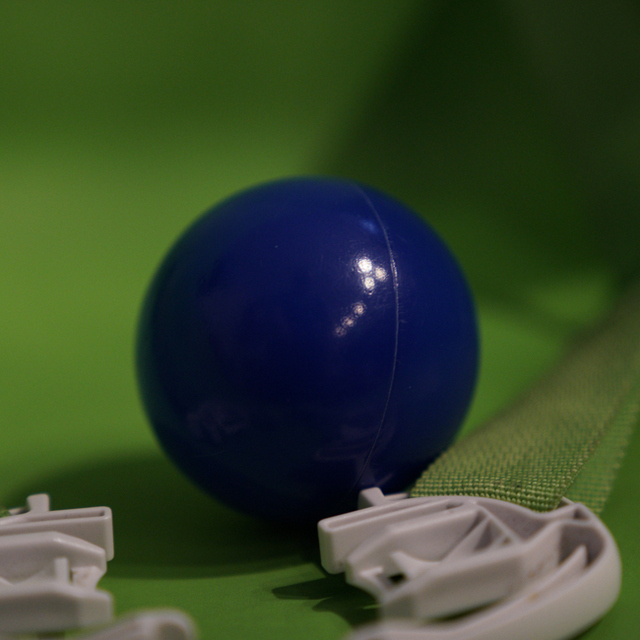Ball: (137, 174, 477, 524)
